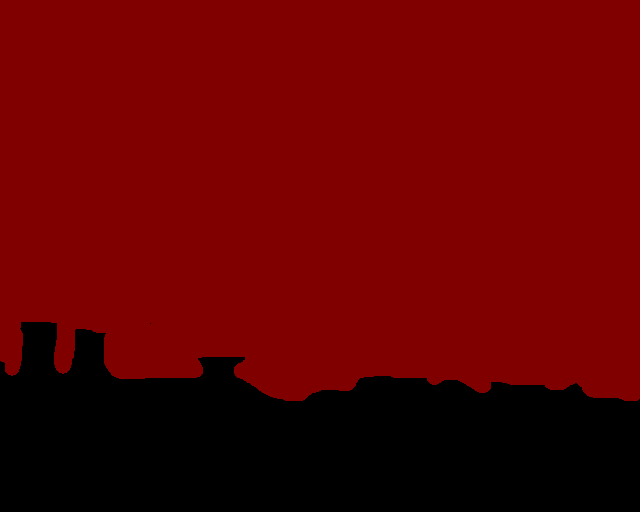Sky: (1, 1, 639, 400)
